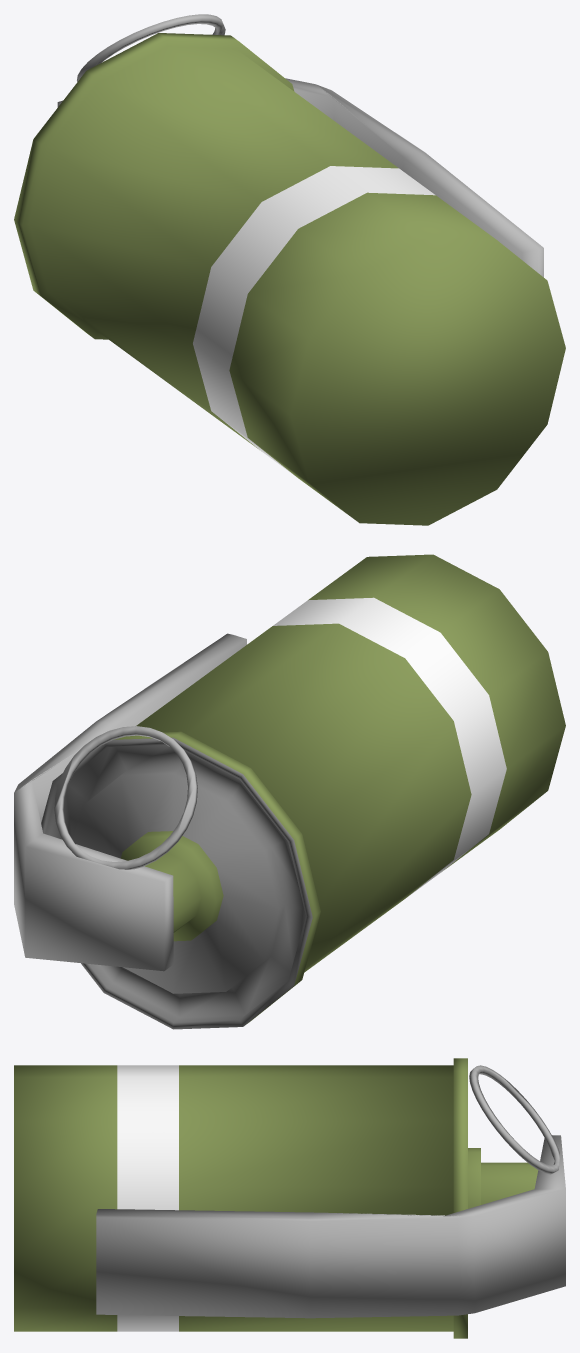
Rendered from item-smokegrenade.glb.
The picture shows the model from 3 angles, top to bottom: view 1: azimuth 30°, elevation 25°; view 2: azimuth 150°, elevation 25°; view 3: azimuth 270°, elevation 25°; orthographic projection. The views are drawn at different scales.
Size of the model in its own units: 2.36 by 2.2 by 4.21.
